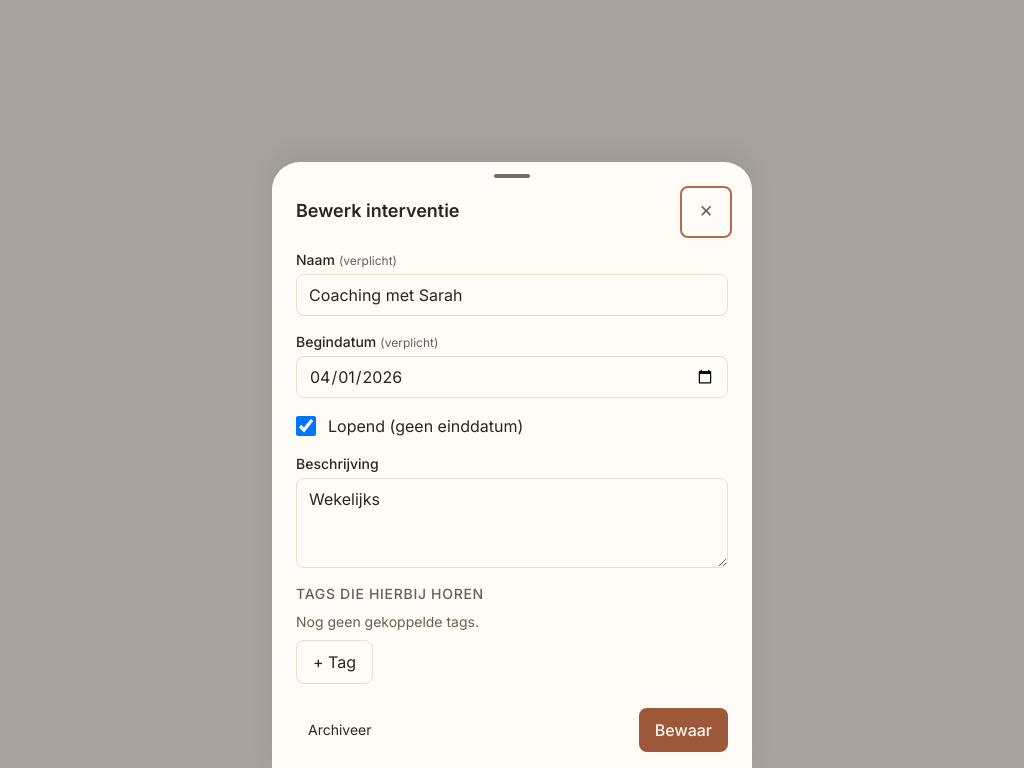
<EpisodeFormSheet /> › tag-linking integration › tapping "+ Tag" opens the nested TagPickerSheet (picker title visible)
The image size is (1024, 768).
Check: the heading "Kies of maak een tag" is not shown
Click the button "+ Tag": (334,662) [296, 640, 373, 684]
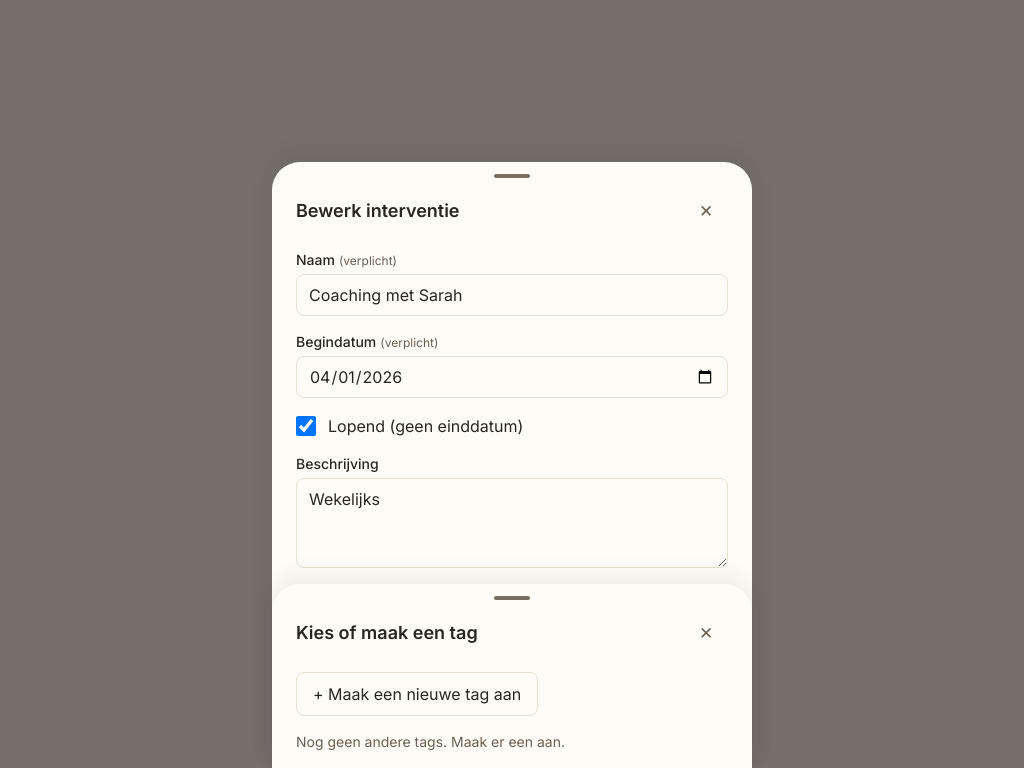
Check: the heading "Kies of maak een tag" is shown, box [296, 619, 478, 647]
